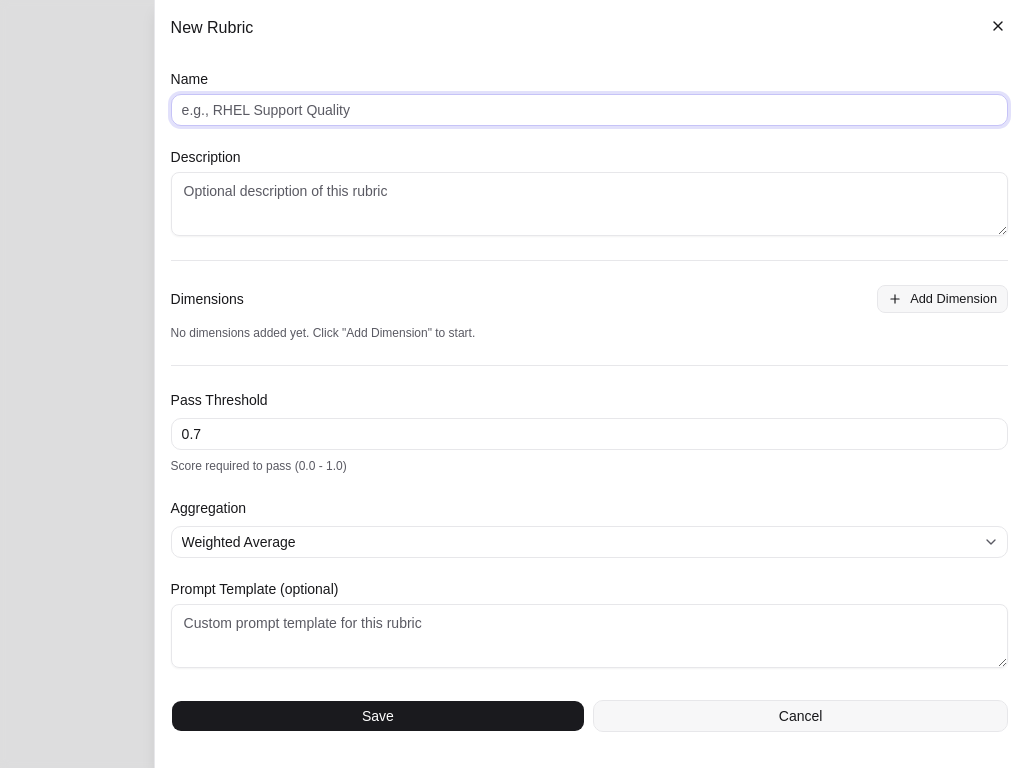
Test: RubricBuilder › validates: rejects empty dimensions
Type "Test Rubric" into the field labelled "Name".
click(589, 110); type("Test Rubric")  # box [171, 94, 1008, 126]
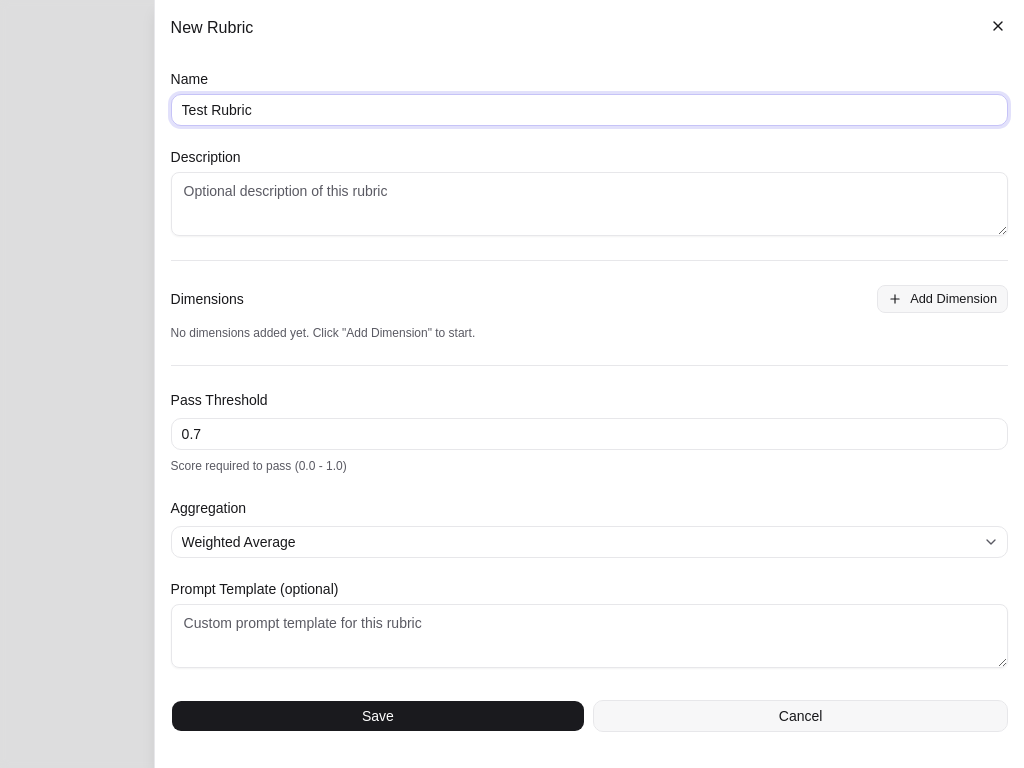
# Try to save without dimensions
Click the button "Save".
click(378, 716)  # box [171, 700, 585, 732]
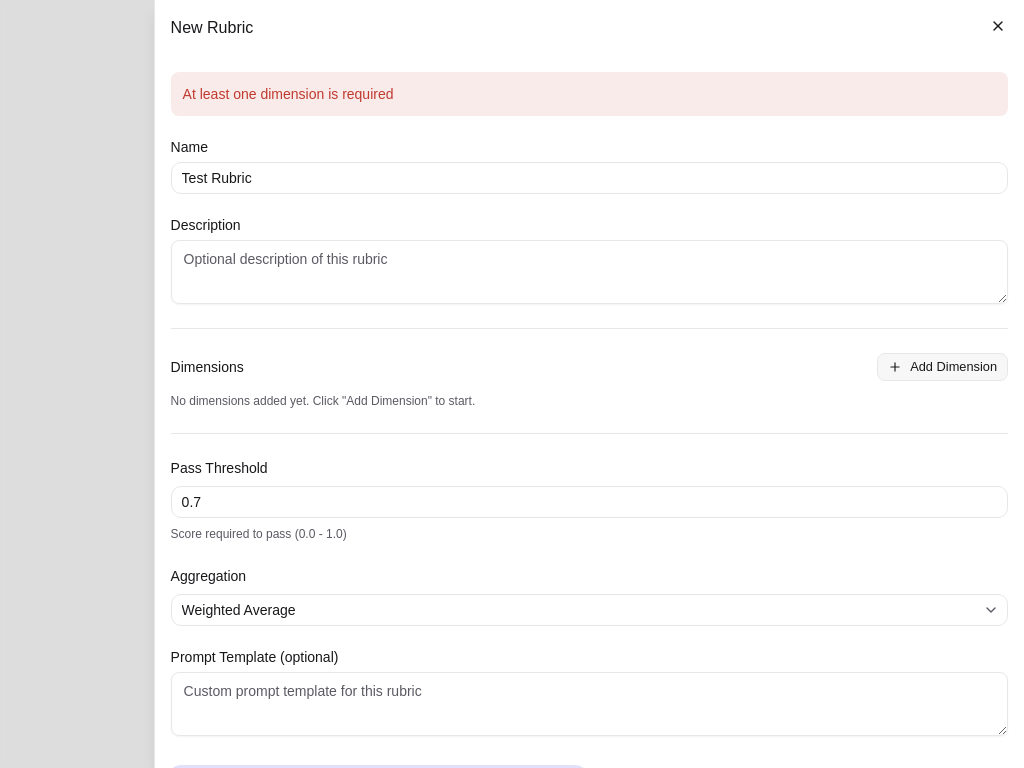
Check: the text "At least one dimension is required" is shown, box [183, 86, 394, 102]
